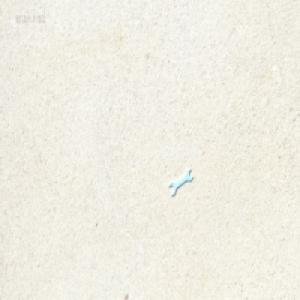Wrench: (166, 165, 191, 193)
